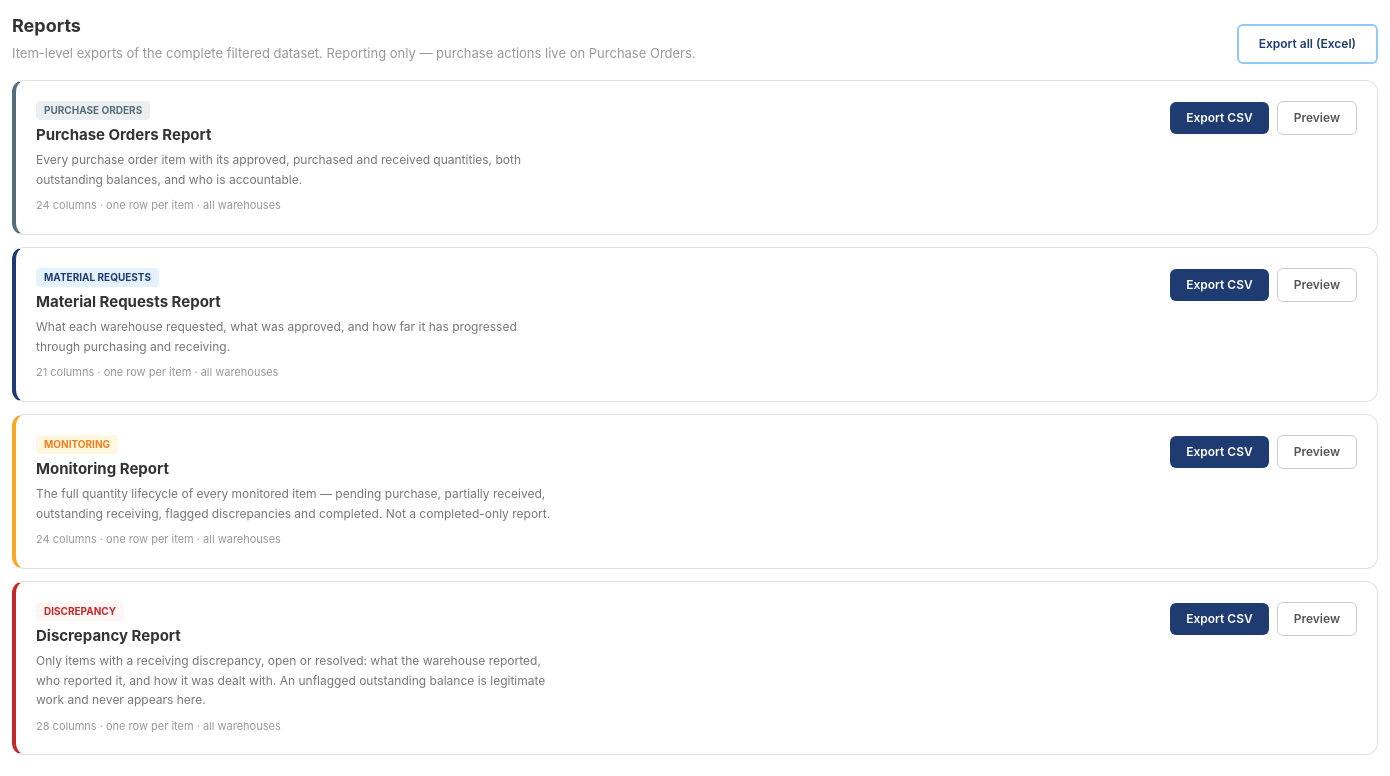
PHASE 6 P6-01 — a truncated report must not read as a complete one › an empty report renders the empty notice rather than a zero-row table
Click the button "Preview" in the row of "Purchase Orders Report": click(1317, 118) x1=1277 y1=100 x2=1357 y2=134
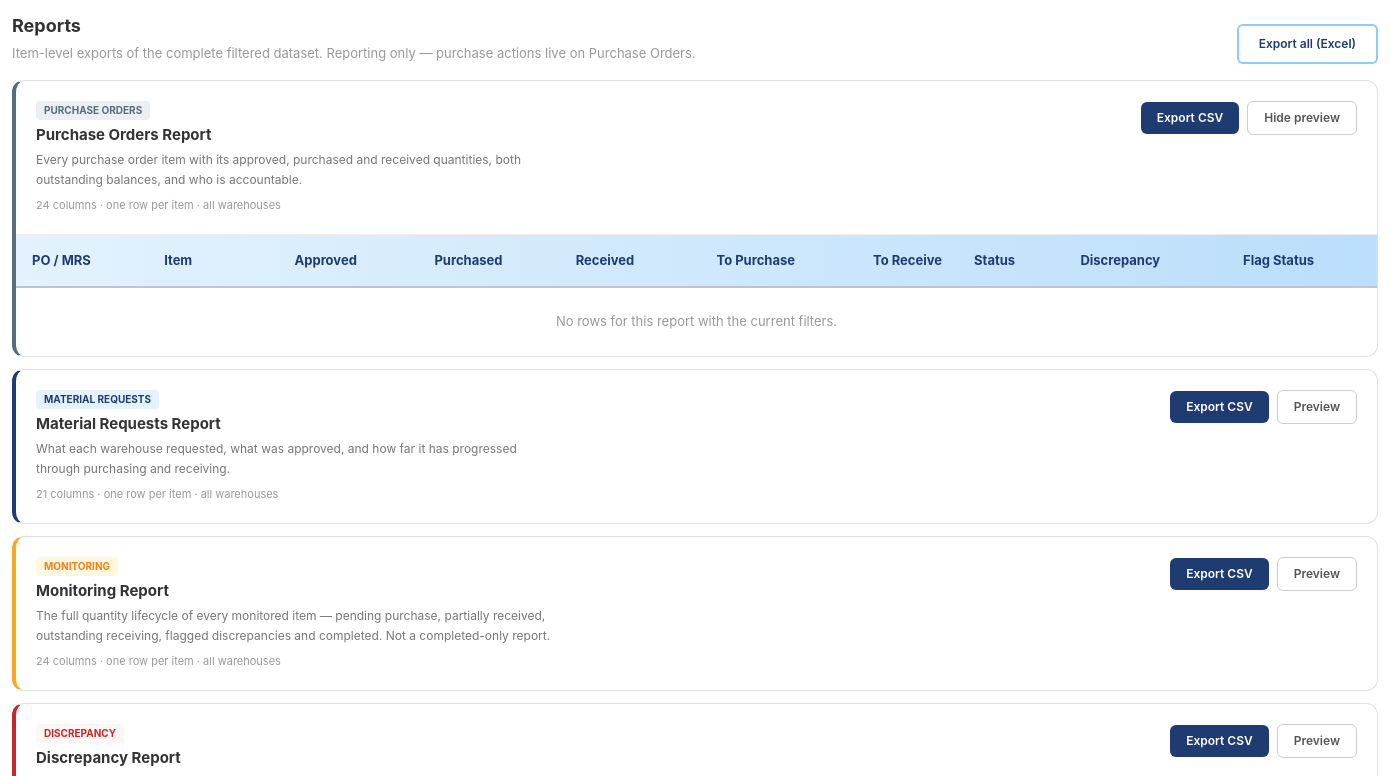
Check: the table is shown, box x1=16 y1=234 x2=1377 y2=356
Check: the element that starts with "PO / MRS" shows "No rows for this report with the current filters.", box x1=556 y1=313 x2=837 y2=329
